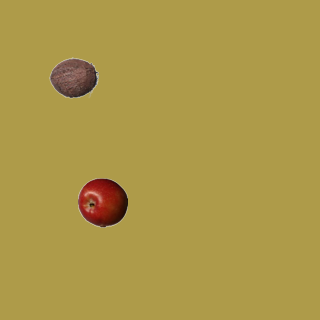Apple Braeburn: (77, 177, 127, 227)
Cocos: (48, 52, 98, 102)
